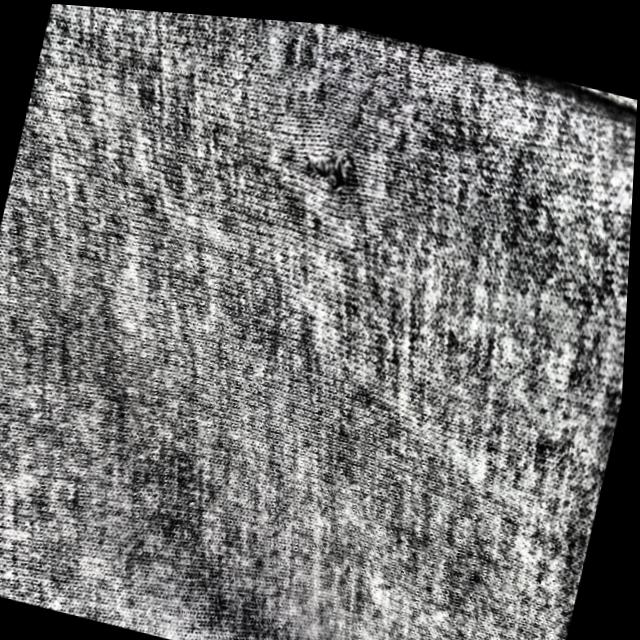Hole: (279, 124, 366, 213)
